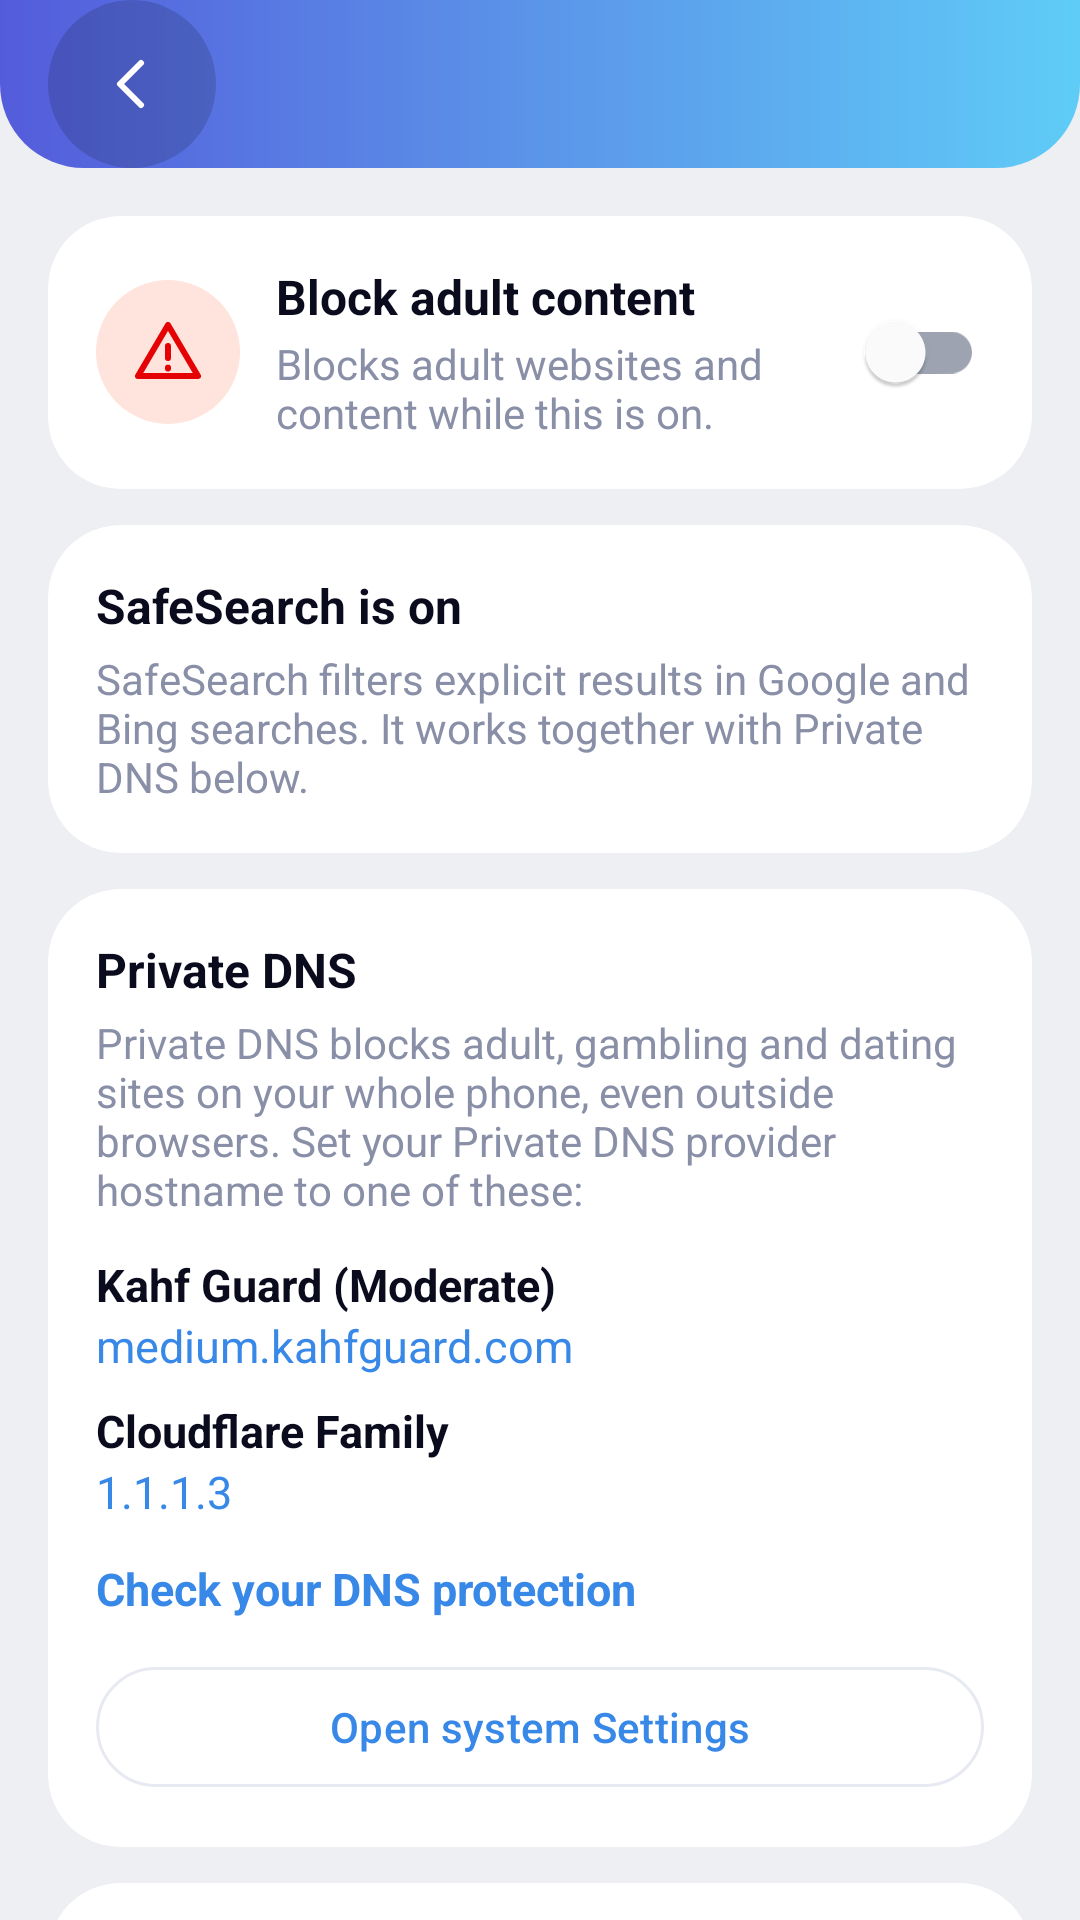

Where to tap for icons on this 1080x1920 app screen, as (x=x, y=y):
warning: (x=168, y=350)
